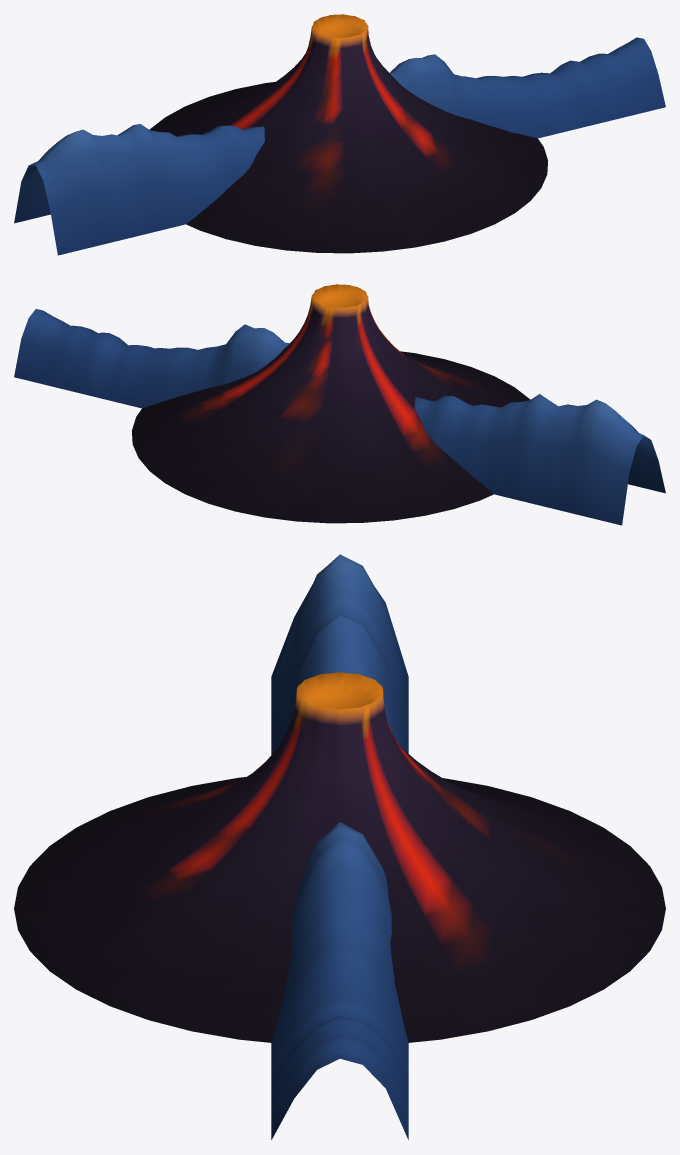
Rendered from Valley.fbx.
3 renders of one model, top to bottom at view 1: azimuth 30°, elevation 25°; view 2: azimuth 150°, elevation 25°; view 3: azimuth 270°, elevation 25°, orthographic. The views are drawn at different scales.
Visible parts, largest first — view 1: Volcano, Mountains; view 2: Volcano, Mountains; view 3: Volcano, Mountains.
Part boxes in pixels (x1,y1,x2,y2): Volcano: (149,14,547,253); Mountains: (14,37,665,255); Volcano: (132,284,530,523); Mountains: (14,309,665,525); Volcano: (14,672,665,1042); Mountains: (271,554,408,1139).
Bounding box in the file's own units: 320 × 70.85 × 190.
